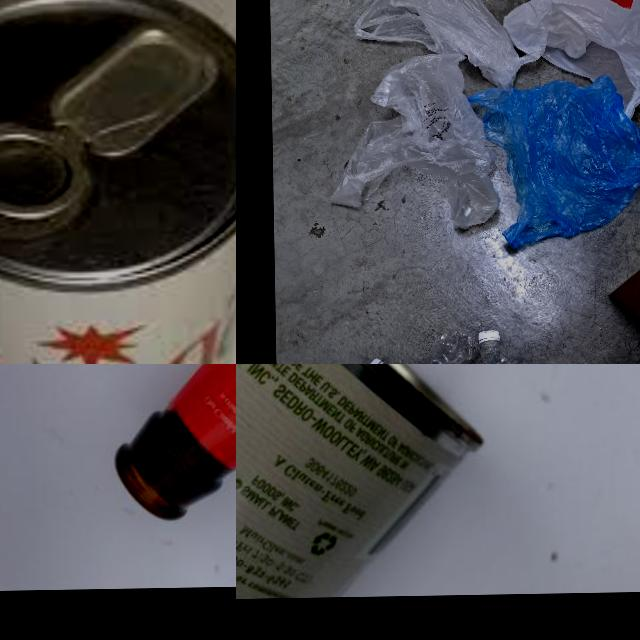aba de lata: (0, 113, 93, 233)
garrafa de vidro: (109, 364, 236, 520)
garrafa plástica: (369, 328, 479, 364), (439, 342, 513, 364)
lata: (0, 0, 236, 364), (236, 364, 486, 601)
sacola plástica: (326, 53, 502, 230), (466, 72, 640, 249), (500, 0, 640, 117), (352, 0, 520, 91)
tampa plástica: (478, 330, 499, 341), (363, 358, 381, 364)
